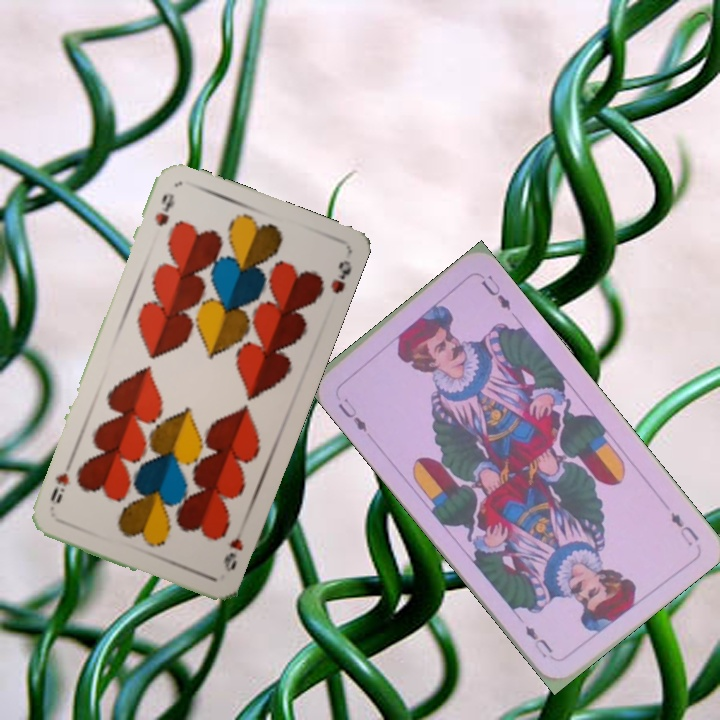EU: (334, 393, 370, 436), (666, 508, 702, 549)
H9: (219, 534, 246, 575), (150, 188, 177, 229)
